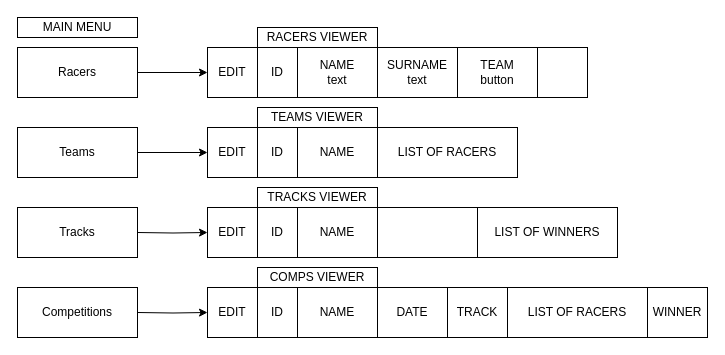
This 725x355 diagram has some shape labels left out. The shapes that lost their labels are listed below. From the top down, each one's box as (x1, y1, x2, y2) in pixels, then its label:
(536, 46, 588, 98): SCORE text
(376, 206, 478, 258): COUNTRY
